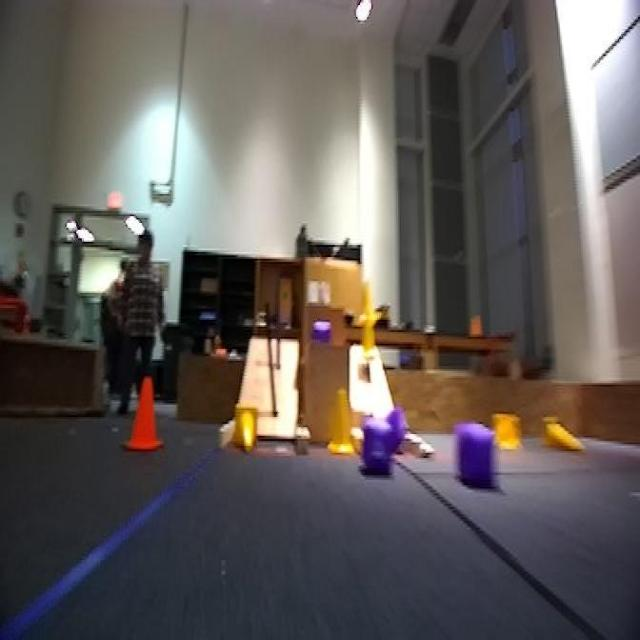frc_cone: (328, 384, 363, 460), (490, 407, 520, 454), (233, 400, 260, 451), (357, 312, 381, 364), (541, 417, 576, 451), (362, 272, 377, 328)
frc_cube: (454, 427, 500, 487), (354, 417, 390, 468), (373, 405, 403, 448), (310, 325, 330, 344)
